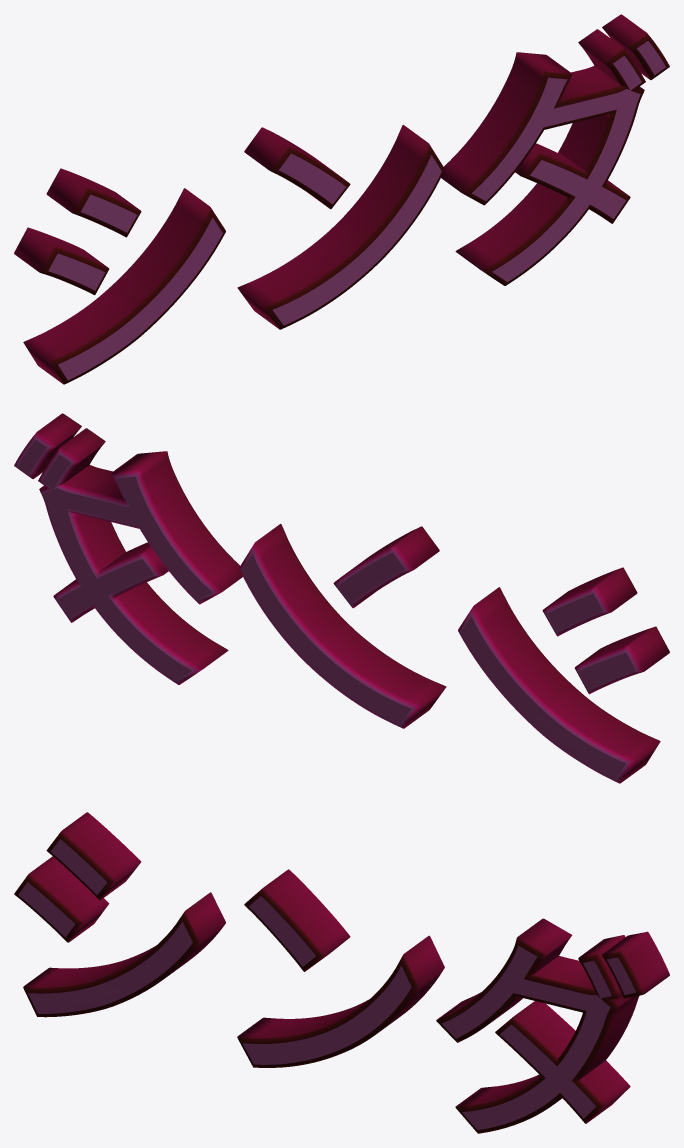
File: gameovertext.obj
3 renders of one model, top to bottom at view 1: azimuth 30°, elevation 25°; view 2: azimuth 150°, elevation 25°; view 3: azimuth 330°, elevation 25°, orthographic.
Parts seen in each view (by area): view 1: テキスト; view 2: テキスト; view 3: テキスト.
Boxes of the visible parts, x1,y1,x2,y2 form: テキスト: (14,14,669,384); テキスト: (14,413,669,783); テキスト: (14,812,669,1133).
Bounding box in the file's own units: 2.91 × 0.9617 × 0.24.
Materials: 1 (1 with a texture image).
